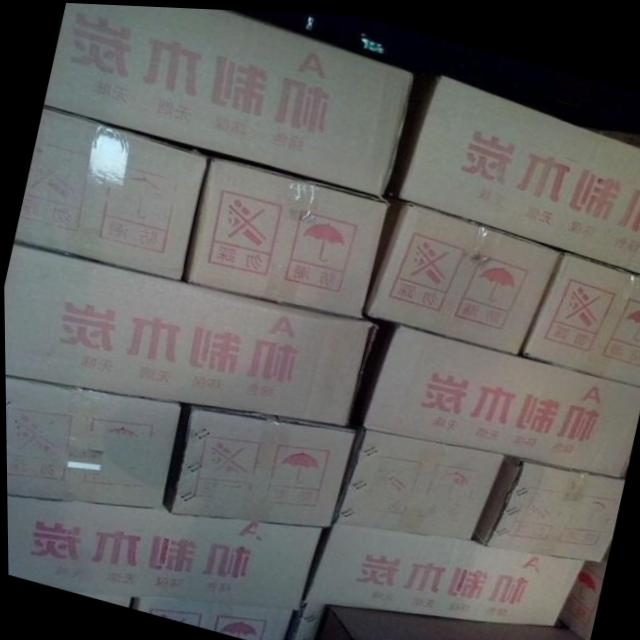box: (43, 2, 411, 195), (3, 243, 377, 422), (383, 70, 640, 268), (348, 315, 640, 474), (6, 496, 320, 640), (281, 517, 584, 640), (12, 104, 207, 278), (182, 153, 386, 317), (361, 198, 562, 351), (4, 374, 177, 507), (170, 404, 353, 524), (329, 422, 503, 534), (516, 244, 640, 383), (472, 450, 623, 558), (557, 539, 609, 637)
